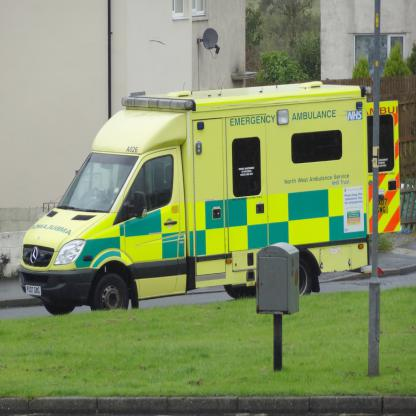Ambulance: (18, 81, 404, 314)
